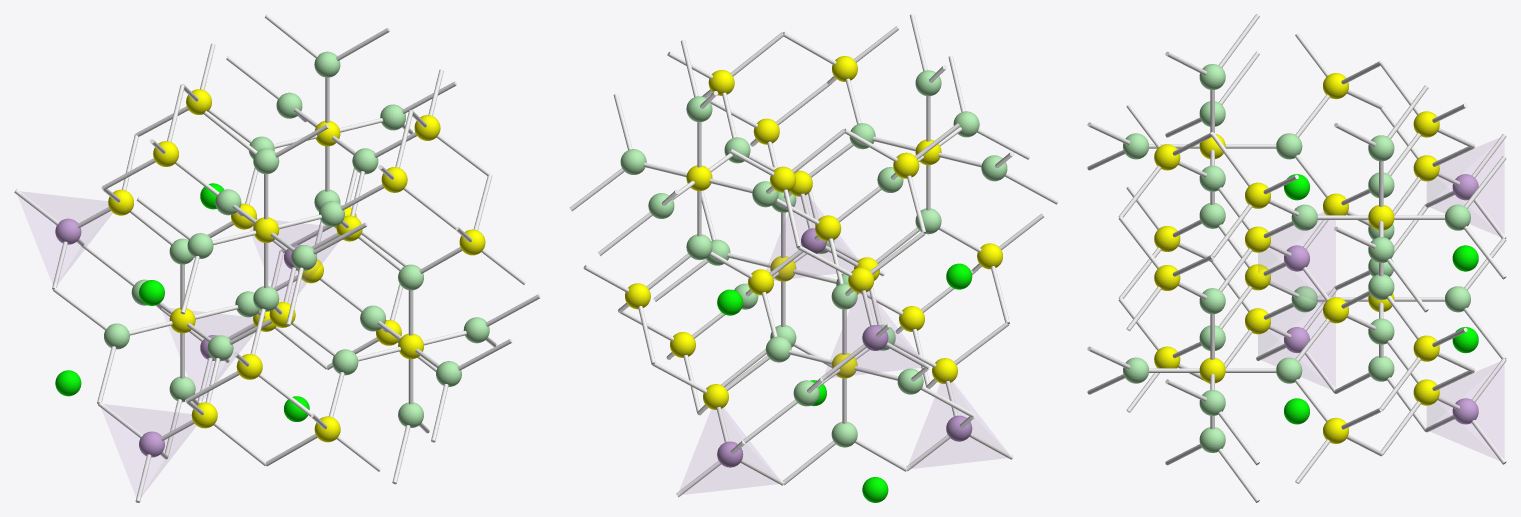
The model's file is structure_mpstyle.glb.
The picture shows the model from 3 angles, left to right: view 1: azimuth 30°, elevation 25°; view 2: azimuth 150°, elevation 25°; view 3: azimuth 270°, elevation 25°; orthographic projection.
Visible parts, largest first — view 1: world; view 2: world; view 3: world.
Part boxes in pixels (x1,y1,x2,y2): world: [14, 14, 540, 502]; world: [569, 14, 1058, 502]; world: [1087, 14, 1506, 502].
Bounding box in the file's own units: 12.77 × 12.77 × 12.77.
